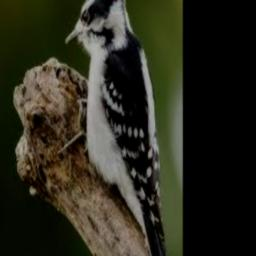Woodpecker: (57, 0, 178, 256)
